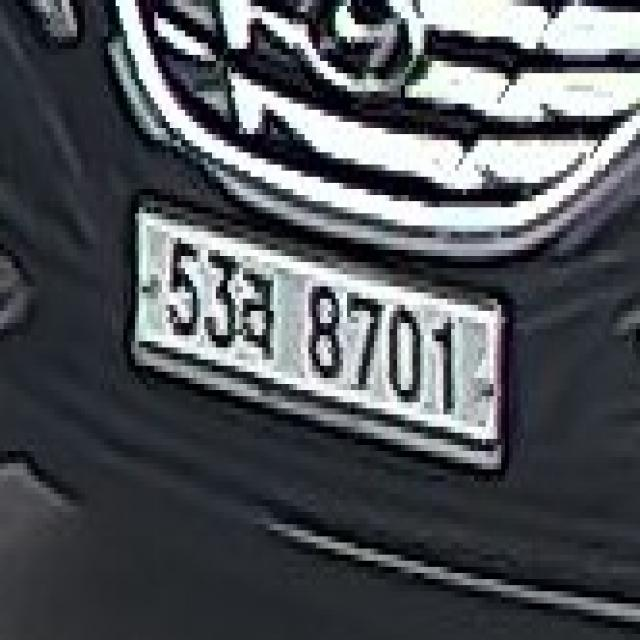0: (382, 298, 432, 421)
1: (424, 292, 463, 420)
3: (197, 225, 243, 354)
5: (162, 226, 204, 342)
7: (351, 268, 393, 402)
8: (289, 250, 347, 408)
la: (235, 256, 285, 372)
license_plate: (123, 195, 505, 494)
